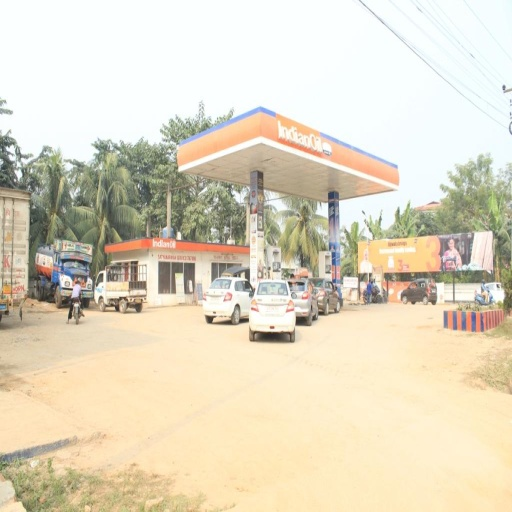roof: (175, 108, 398, 209)
